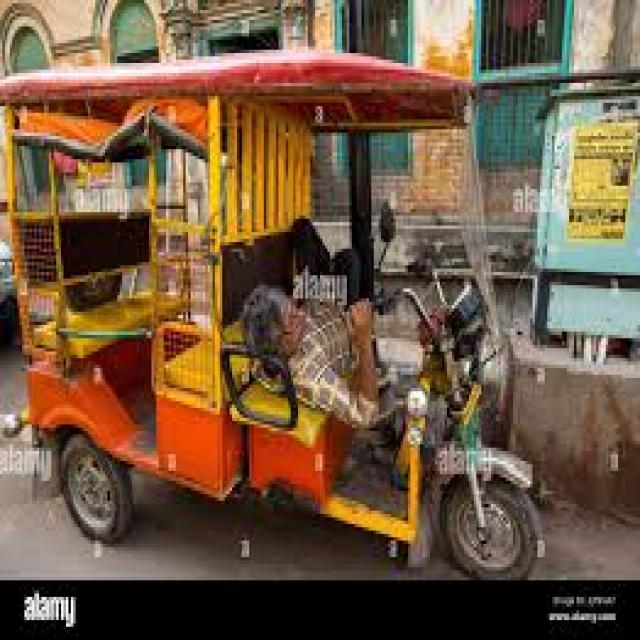Toto: (13, 29, 506, 546)
